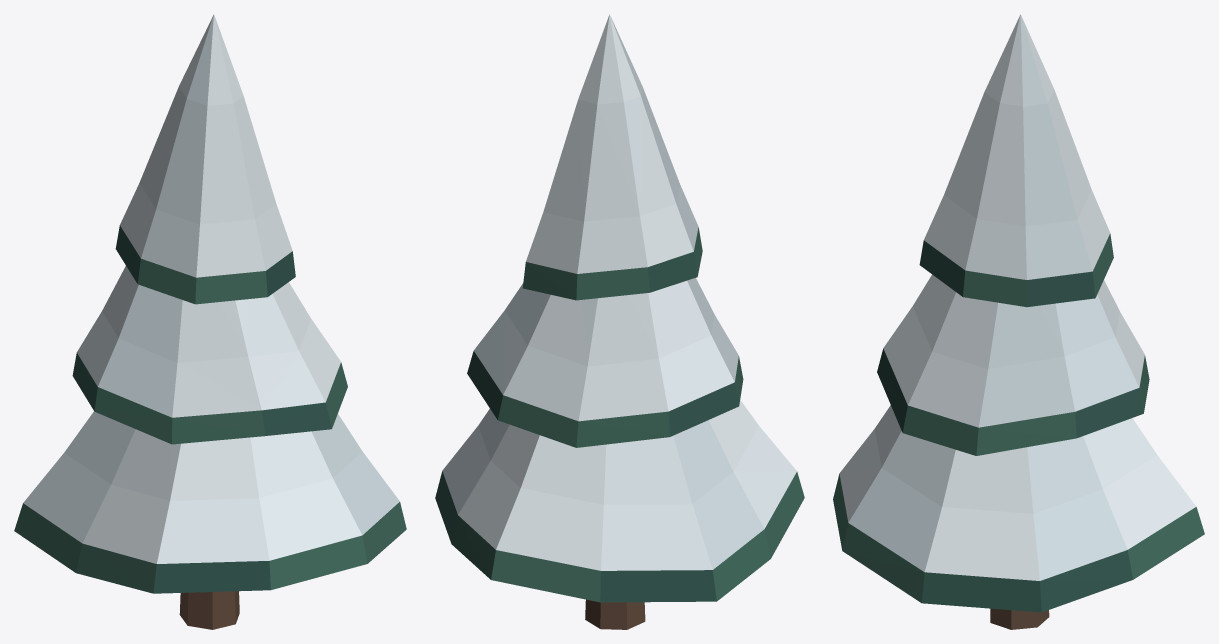
Rendered from snow_pine.glb.
The picture shows the model from 3 angles, left to right: view 1: azimuth 30°, elevation 25°; view 2: azimuth 150°, elevation 25°; view 3: azimuth 270°, elevation 25°; orthographic projection.
Visible parts, largest first — view 1: Lower boughs, Middle boughs, Crown, Trunk; view 2: Lower boughs, Middle boughs, Crown, Trunk; view 3: Lower boughs, Middle boughs, Crown, Trunk.
Boxes of the visible parts, x1,y1,x2,y2 form: Lower boughs: [14, 411, 406, 593]; Middle boughs: [72, 266, 347, 444]; Crown: [115, 14, 295, 304]; Trunk: [179, 591, 239, 629]; Lower boughs: [435, 400, 804, 602]; Middle boughs: [467, 278, 743, 447]; Crown: [522, 14, 702, 300]; Trunk: [585, 599, 645, 629]; Lower boughs: [833, 405, 1204, 612]; Middle boughs: [877, 274, 1149, 455]; Crown: [919, 14, 1113, 307]; Trunk: [990, 608, 1049, 629].
Size of the model in its own units: 2.25 by 4.08 by 2.27.
